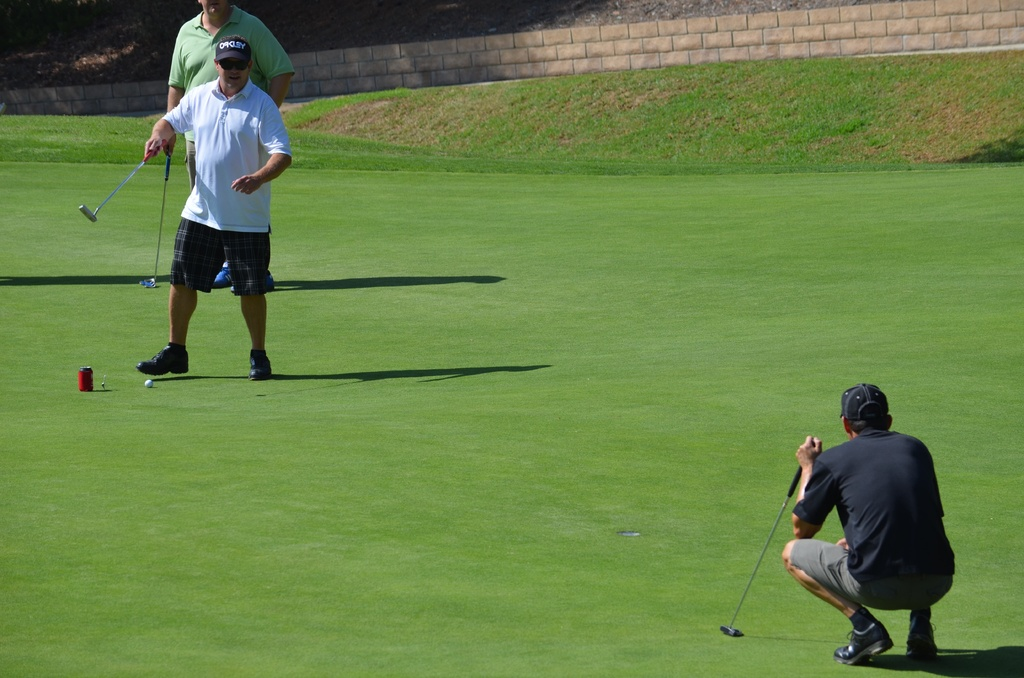Ball: (142, 379, 153, 387)
